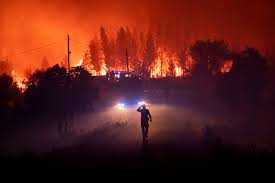fire: (4, 48, 35, 91), (157, 58, 188, 78), (80, 59, 107, 76)
smoke: (136, 1, 192, 52)
